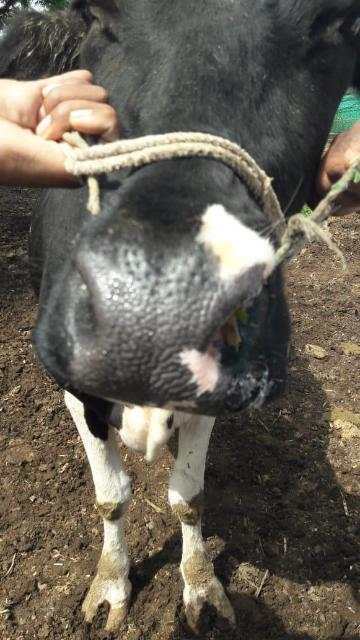Muzzle: (88, 257, 212, 397)
